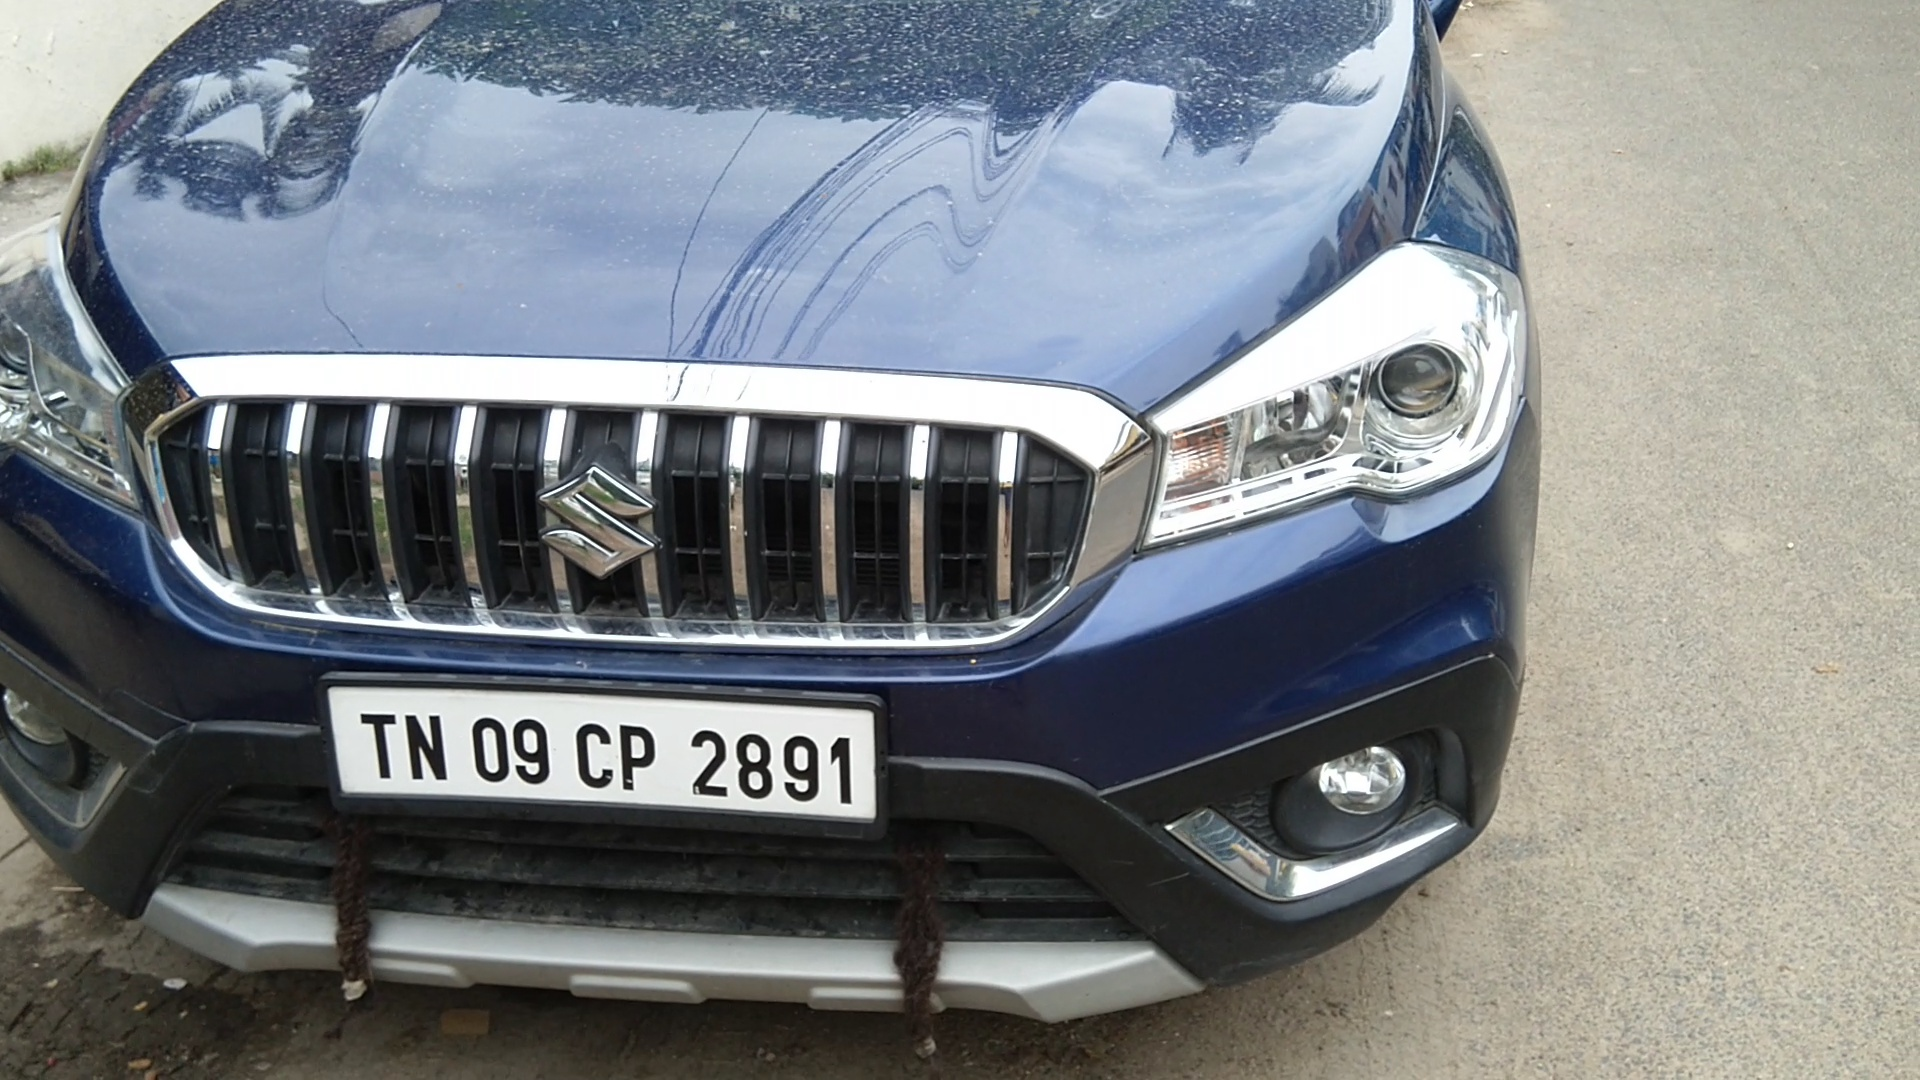front_grill: (131, 353, 1139, 663)
headlamp: (1147, 233, 1532, 566), (1, 233, 127, 512)
